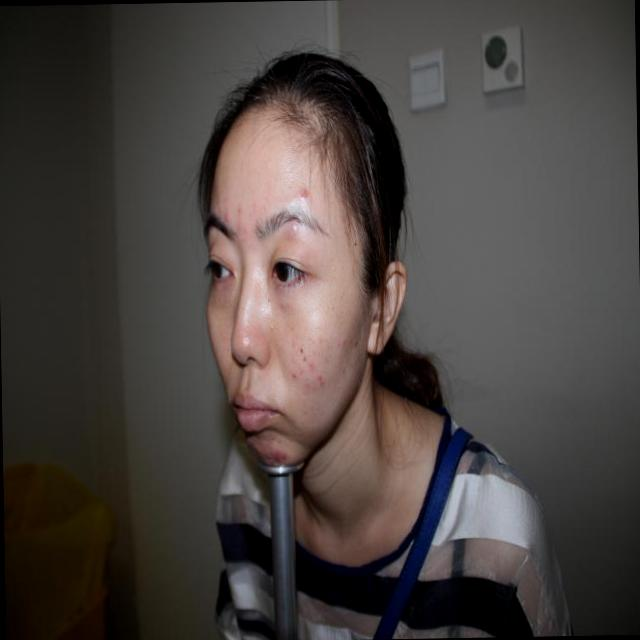acne: (276, 442, 292, 468), (315, 368, 330, 391), (289, 364, 304, 384), (295, 188, 312, 205), (339, 336, 352, 351), (306, 354, 316, 371), (234, 200, 242, 217), (221, 207, 227, 224)
